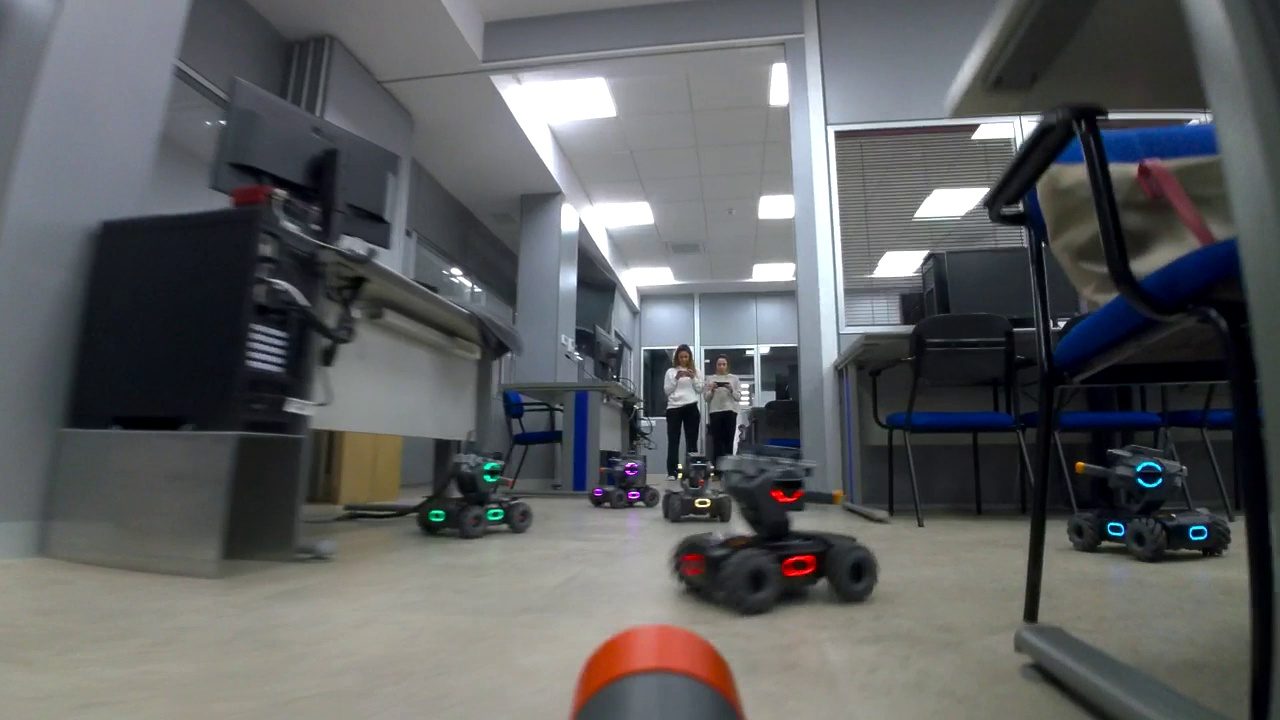robot: (670, 443, 882, 618), (1064, 443, 1234, 563), (415, 455, 535, 539), (663, 450, 735, 524), (587, 458, 658, 512)
